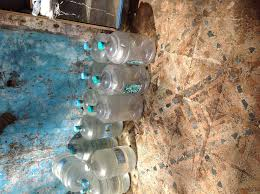Bisleri: (108, 149, 127, 166), (57, 156, 74, 172), (124, 83, 144, 95)
plastic: (85, 46, 122, 193)
